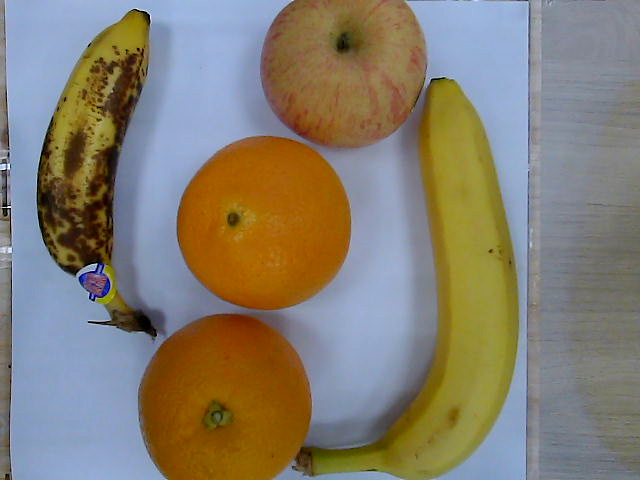fresh_apple: (263, 2, 427, 147)
fresh_banana: (300, 81, 521, 480)
fresh_orange: (176, 136, 350, 307), (140, 316, 314, 480)
rotten_banana: (38, 10, 160, 338)
